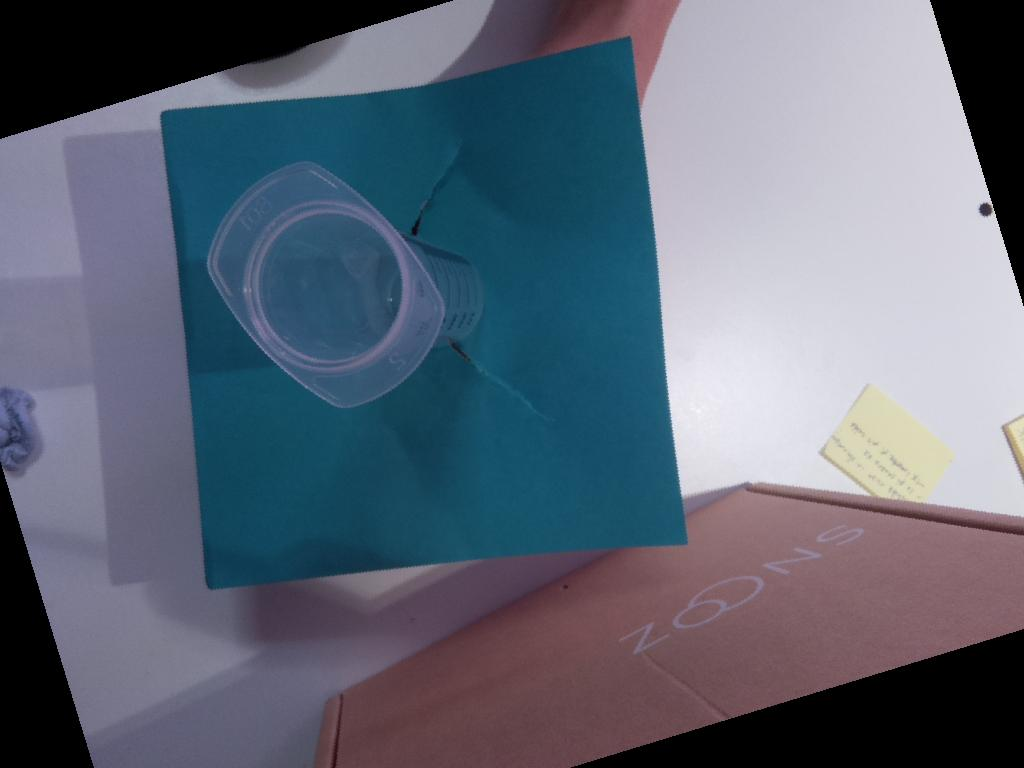clean: (206, 160, 447, 412)
